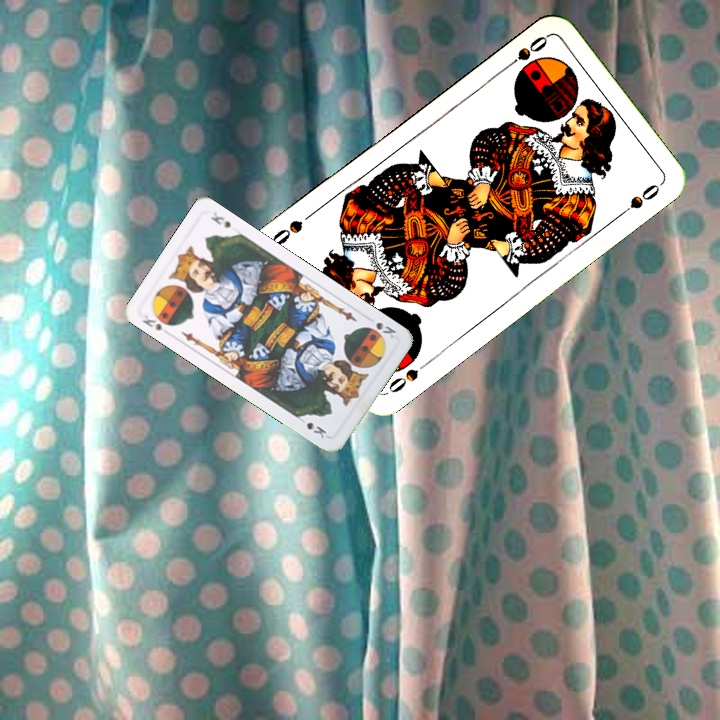SK: (138, 311, 174, 338), (363, 318, 399, 341)
SO: (500, 31, 551, 73), (382, 356, 433, 397)
